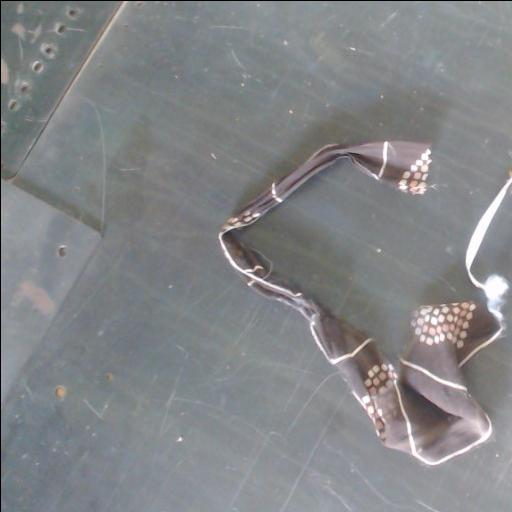cloth: (219, 140, 501, 464)
conveyor belt: (1, 1, 512, 512)
thread: (465, 176, 512, 296)
